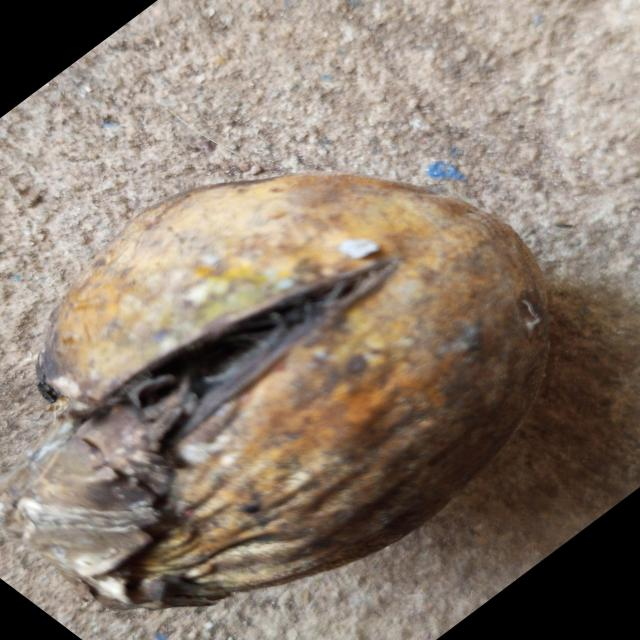damaged: (0, 174, 549, 608)
